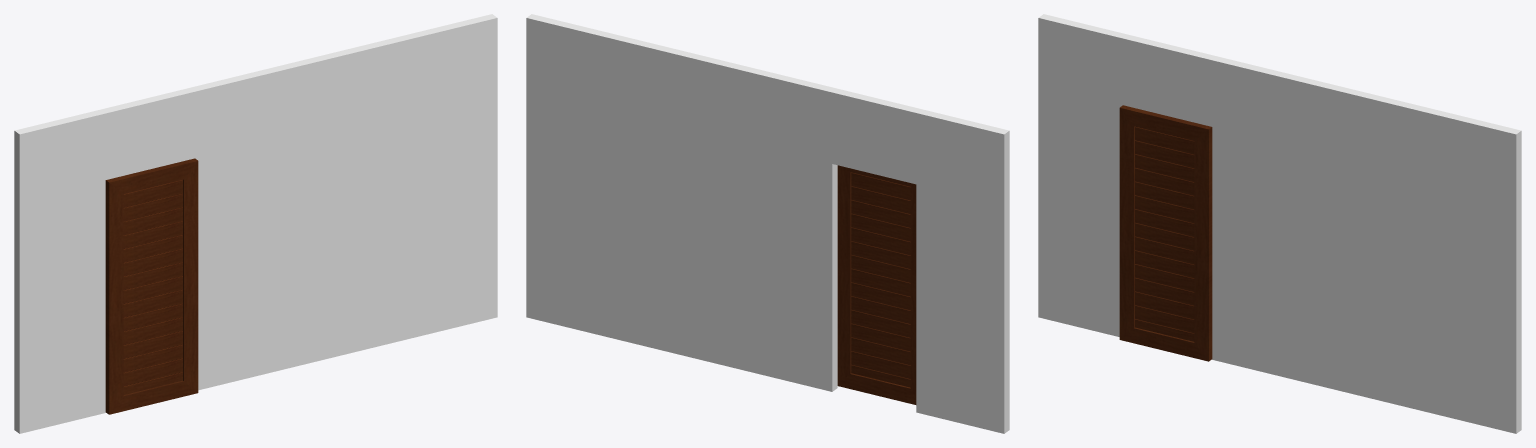
The model's file is MasterBathroomBarnDoor.glb.
3 renders of one model, left to right at view 1: azimuth 30°, elevation 25°; view 2: azimuth 150°, elevation 25°; view 3: azimuth 330°, elevation 25°, orthographic.
Visible parts, largest first — view 1: Wall part, Slat (×15), SideRail (×3), HorizontalRail (×2); view 2: Wall part, Slat (×15), SideRail (×2), HorizontalRail; view 3: Wall part, Slat (×15), SideRail (×3), HorizontalRail (×2).
Boxes of the visible parts, box(x1,y1,x2,y2) form: Wall part: box(14, 14, 497, 433); Slat (×15): box(123, 180, 182, 394); SideRail (×3): box(105, 161, 198, 414); HorizontalRail (×2): box(108, 160, 197, 414); Wall part: box(526, 14, 1009, 433); Slat (×15): box(851, 172, 910, 387); SideRail (×2): box(837, 165, 916, 395); HorizontalRail: box(837, 373, 916, 404); Wall part: box(1038, 14, 1521, 433); Slat (×15): box(1135, 126, 1194, 341); SideRail (×3): box(1119, 108, 1212, 361); HorizontalRail (×2): box(1120, 107, 1209, 361).
Bounding box in the file's own units: 4.62 × 2.77 × 0.1587.
Materials: 44 (34 with a texture image).
